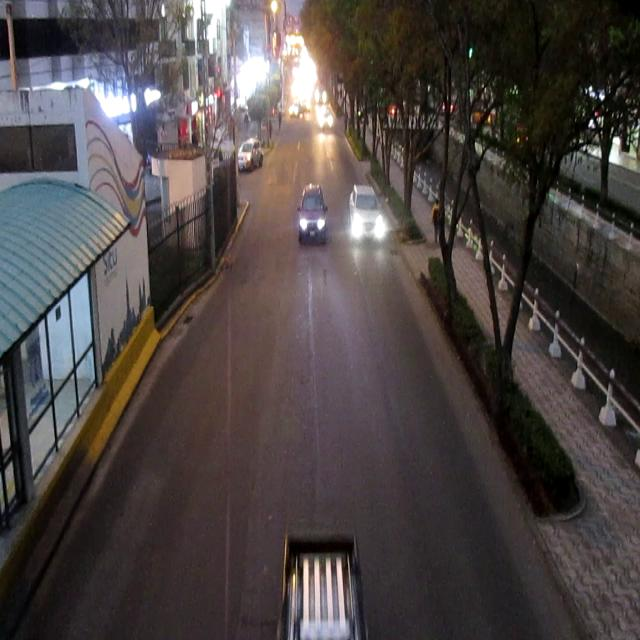SUV: (298, 184, 325, 242), (239, 142, 263, 172)
